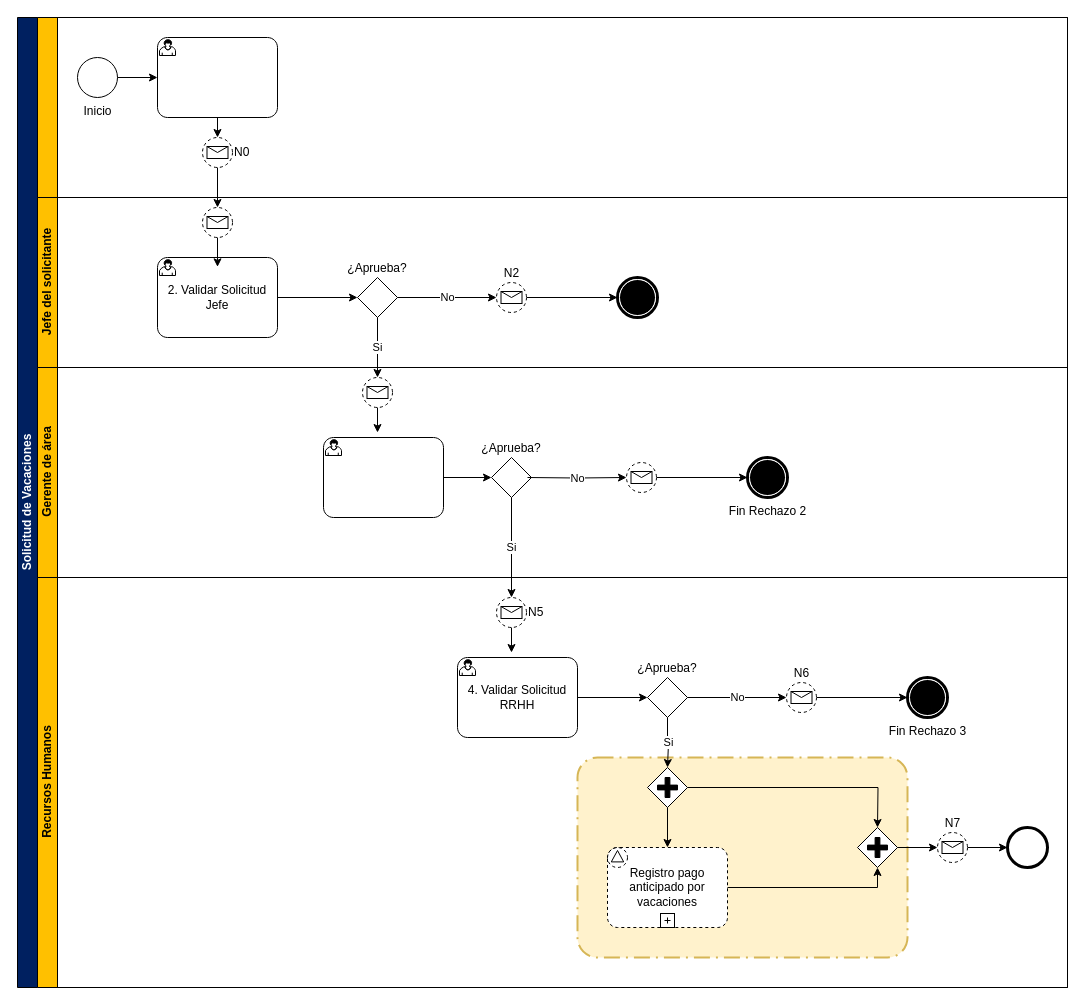
This 1085x1005 diagram has some shape labels left out. Here are the shapes that lost their labels. From the top down, the box of each, then its label:
(156, 36, 278, 118): 1. Ingresar solicitud
(36, 16, 1068, 198): Solicitante
(202, 206, 232, 238): N1
(616, 276, 658, 318): Fin Rechazo 1
(362, 376, 392, 408): N3
(322, 436, 444, 518): 3. Validar Solicitud Gerente
(626, 462, 656, 492): N4
(576, 756, 908, 958): Opcional
(1006, 826, 1048, 868): Fin
